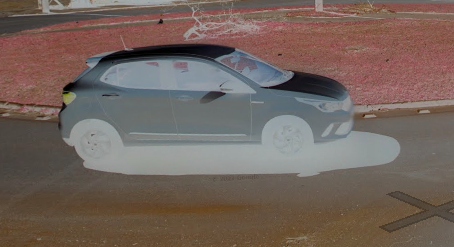car: (55, 32, 360, 174)
